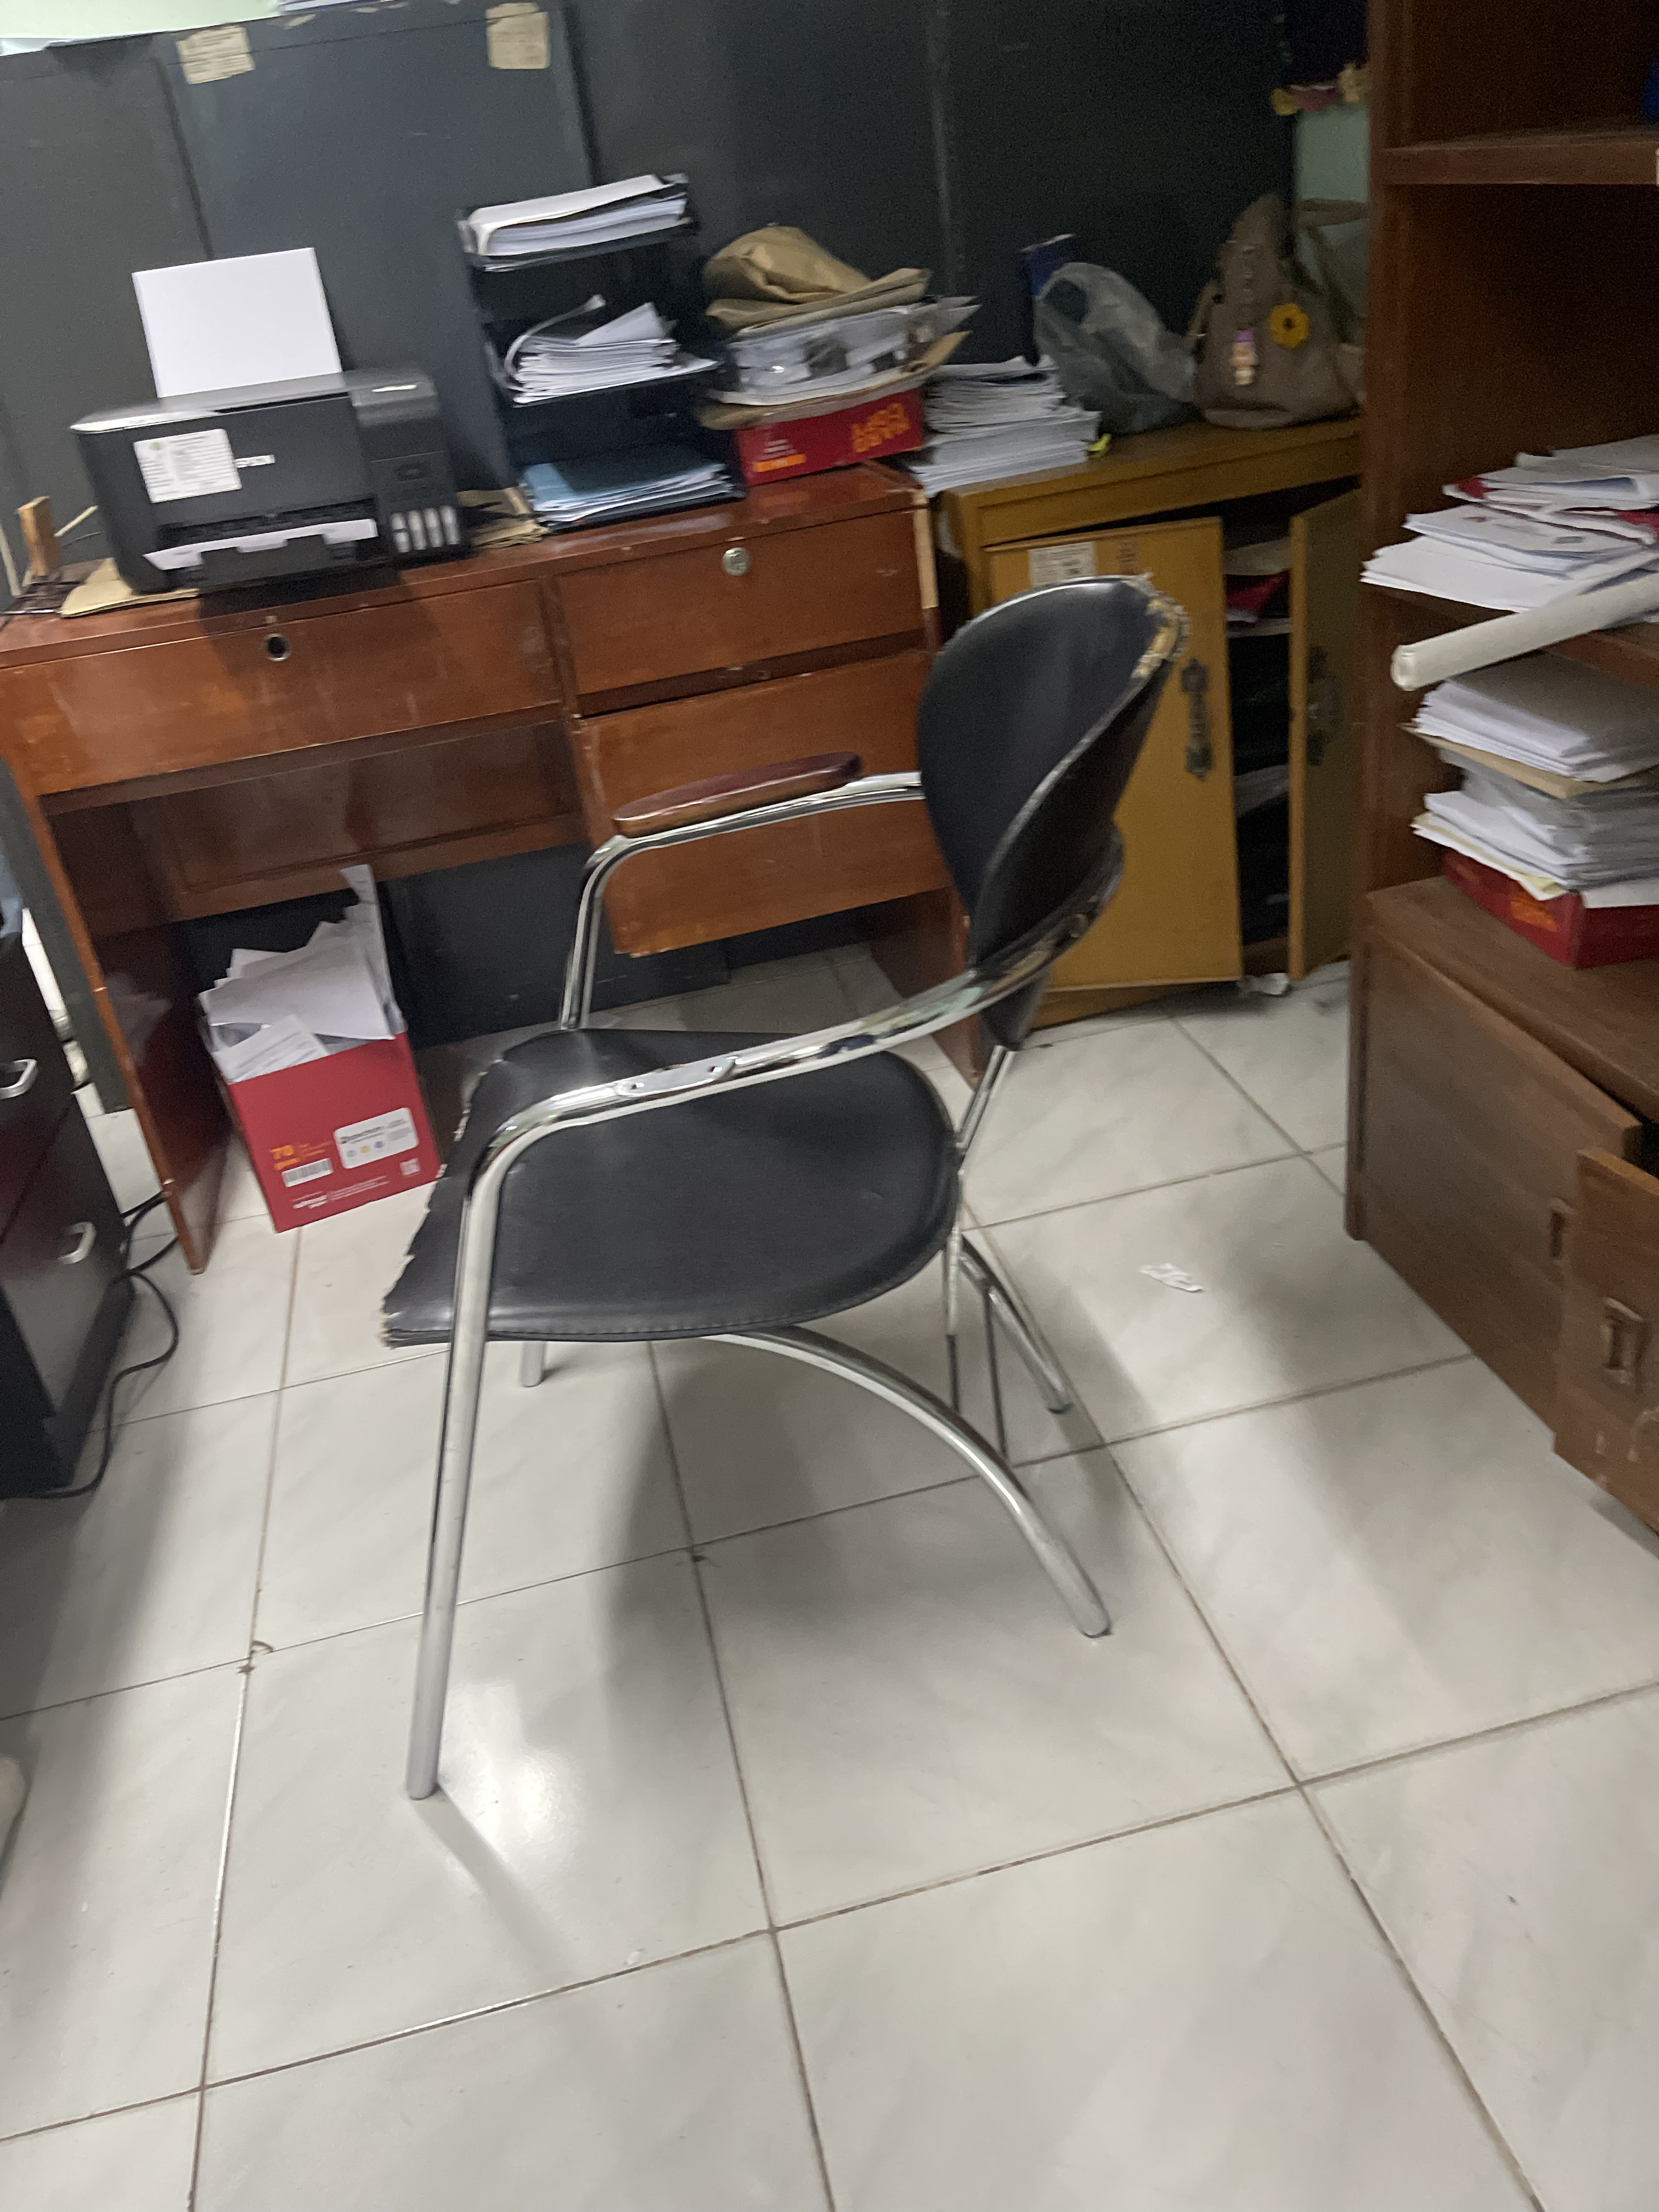chair1: (371, 559, 1194, 1811)
